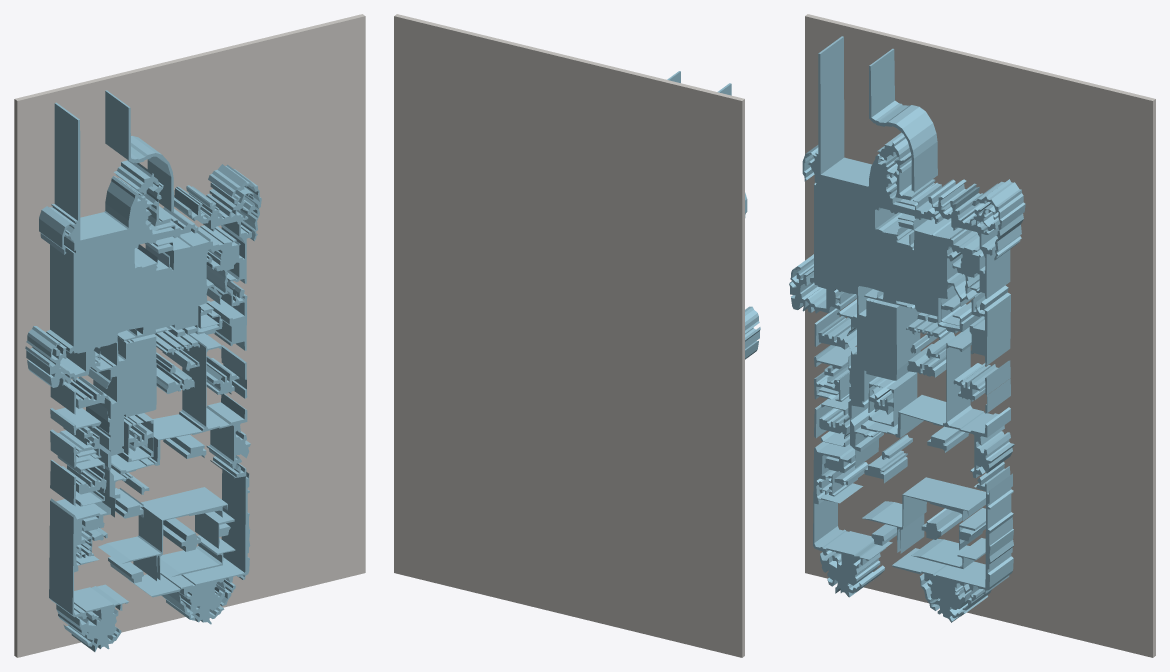
3 renders of one model, left to right at view 1: azimuth 30°, elevation 25°; view 2: azimuth 150°, elevation 25°; view 3: azimuth 330°, elevation 25°, orthographic.
Parts seen in each view (by area): view 1: world; view 2: world; view 3: world.
Boxes of the visible parts, bbox=[...] form: world: bbox=[14, 14, 365, 657]; world: bbox=[394, 14, 760, 657]; world: bbox=[789, 14, 1155, 657].
Bounding box in the file's own units: 10.23 × 15.64 × 1.35.
